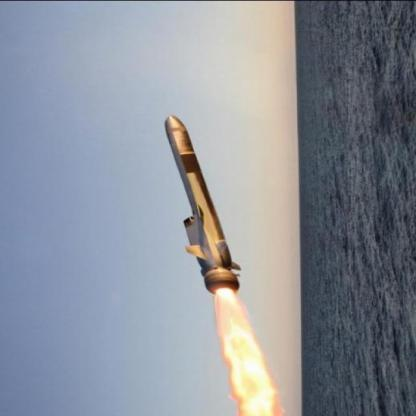MIL_TBM: (160, 106, 237, 297)
